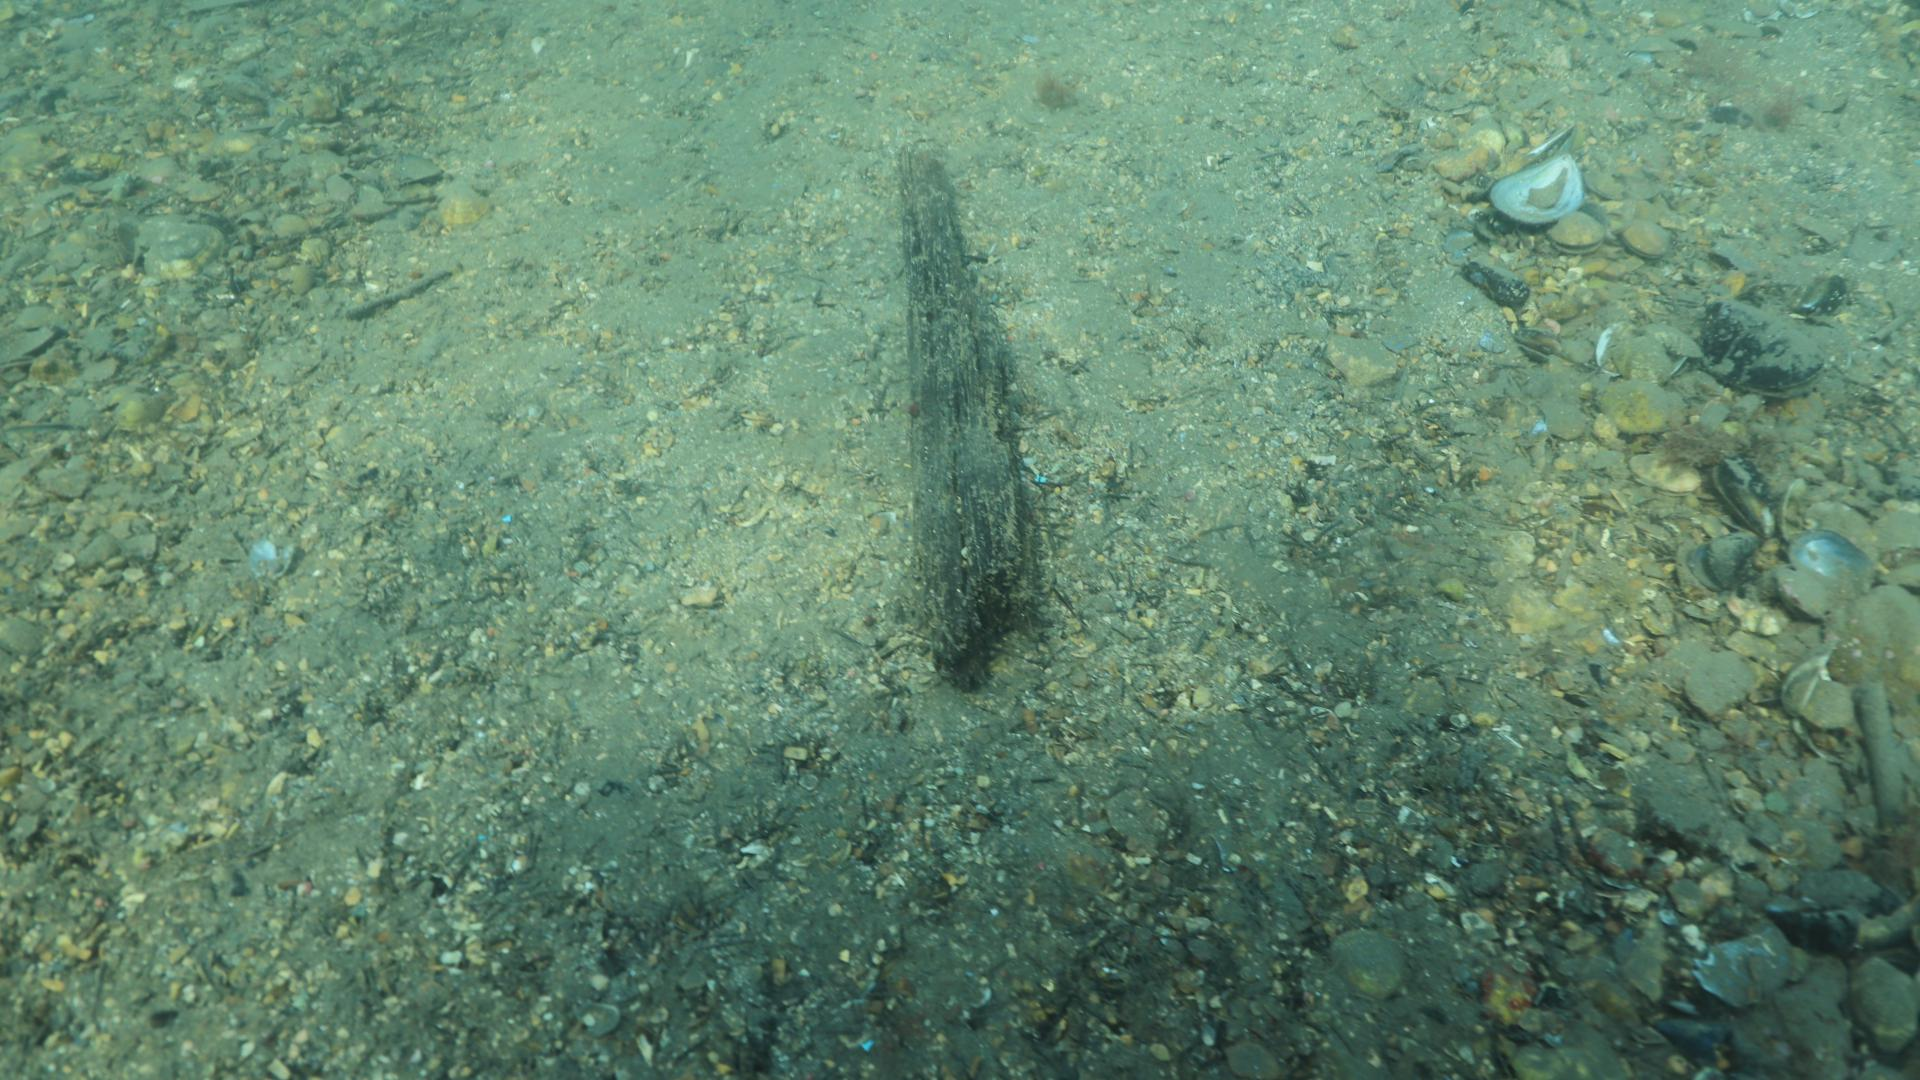wood: (872, 135, 1058, 694)
